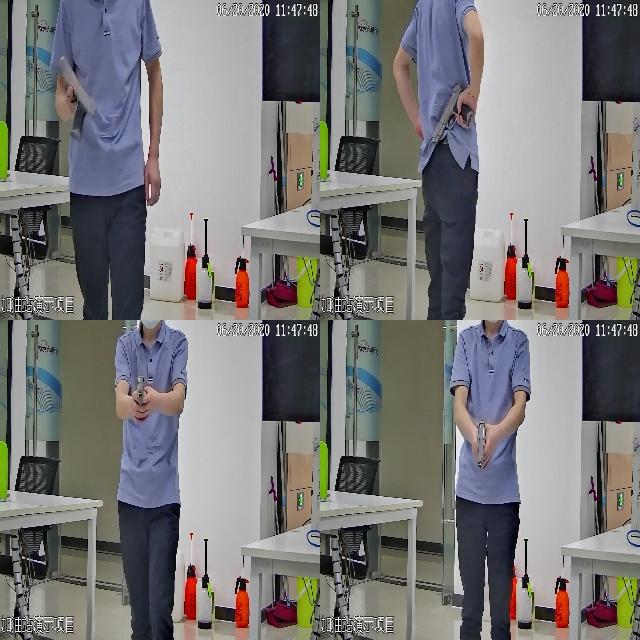gun: (56, 51, 97, 141), (430, 80, 472, 141), (473, 416, 492, 470), (131, 372, 147, 421)
